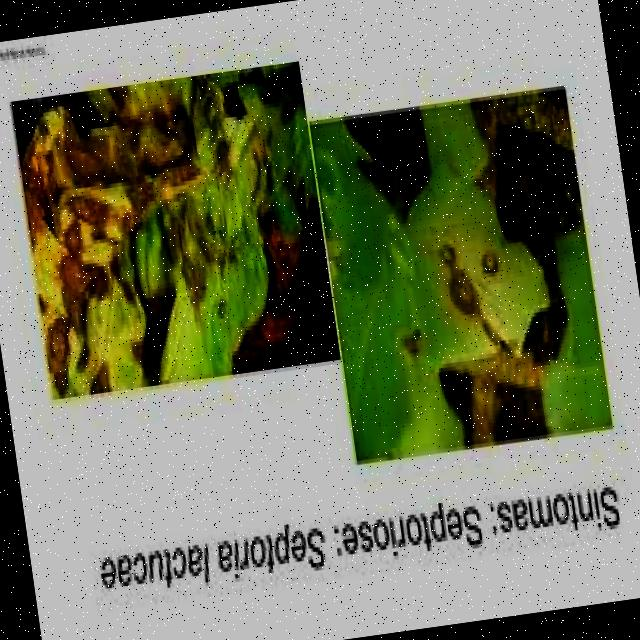Septoria_Blight_on_lettuce: (20, 90, 279, 368), (397, 170, 548, 387)
